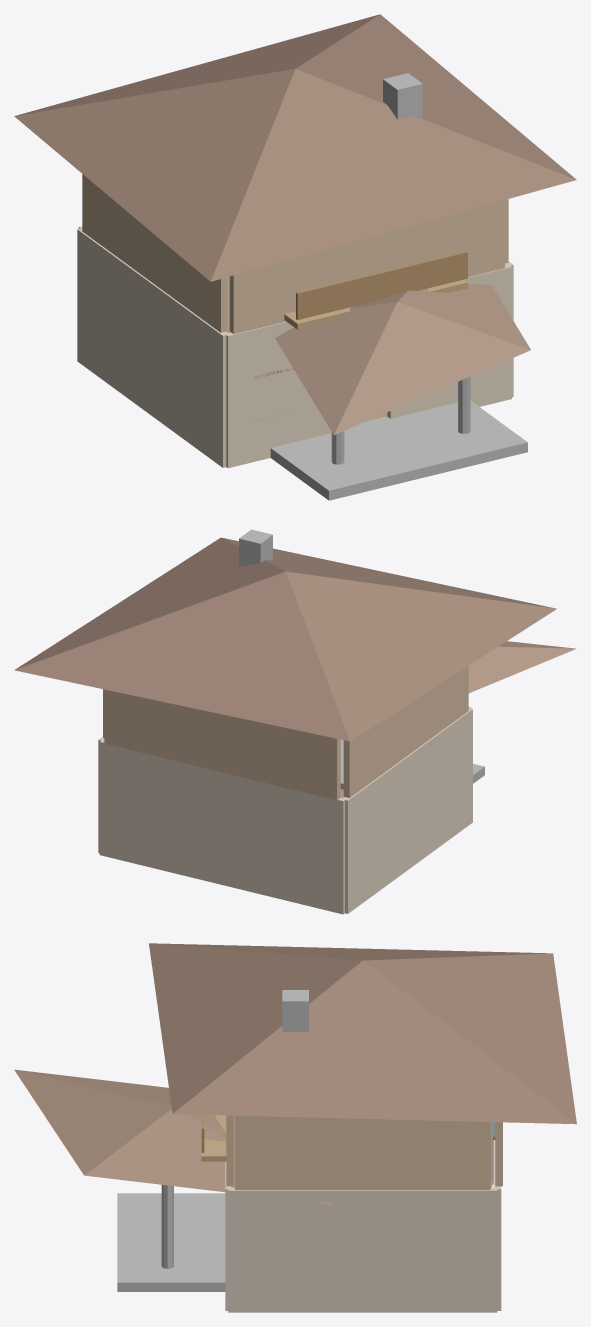
The model's file is house_big.fbx.
3 renders of one model, top to bottom at view 1: azimuth 30°, elevation 25°; view 2: azimuth 150°, elevation 25°; view 3: azimuth 270°, elevation 25°, orthographic. The views are drawn at different scales.
Visible parts, largest first — view 1: Roof, PorchRoof, Left, Porch, Front2, Front_L, Left2, BalconyRail, Front_R, Chimney, Balcony, Column.001; view 2: Roof, Back, Left, Back2, Left2, PorchRoof, Chimney; view 3: Roof, Right, Right2, PorchRoof, Porch, Chimney, Column.001, Back, Balcony, Front2, Front_R, Back2.
Part boxes in pixels (x1,y1,x2,y2): Roof: (14,14,576,281); PorchRoof: (275,283,530,434); Left: (77,228,229,467); Porch: (270,401,527,500); Front2: (229,200,504,334); Front_L: (226,321,331,468); Left2: (82,174,227,332); BalconyRail: (296,251,467,319); Front_R: (387,264,511,418); Chimney: (383,73,422,119); Balcony: (284,279,467,329); Column.001: (458,376,470,433); Roof: (14,537,556,741); Back: (99,739,344,914); Left: (342,708,472,913); Back2: (104,689,340,800); Left2: (343,666,468,797); PorchRoof: (468,641,576,693); Chimney: (239,529,272,566); Roof: (149,943,576,1124); Right: (228,1187,497,1312); Right2: (235,1115,490,1189); PorchRoof: (14,1069,334,1205); Porch: (117,1193,225,1291); Chimney: (282,990,308,1032); Column.001: (161,1185,173,1268); Back: (493,1140,501,1310); Balcony: (201,1115,226,1161); Front2: (226,1115,233,1186); Front_R: (225,1161,231,1310); Back2: (495,1122,502,1186).
Size of the model in its own units: 12.73 by 9.4 by 16.74.
